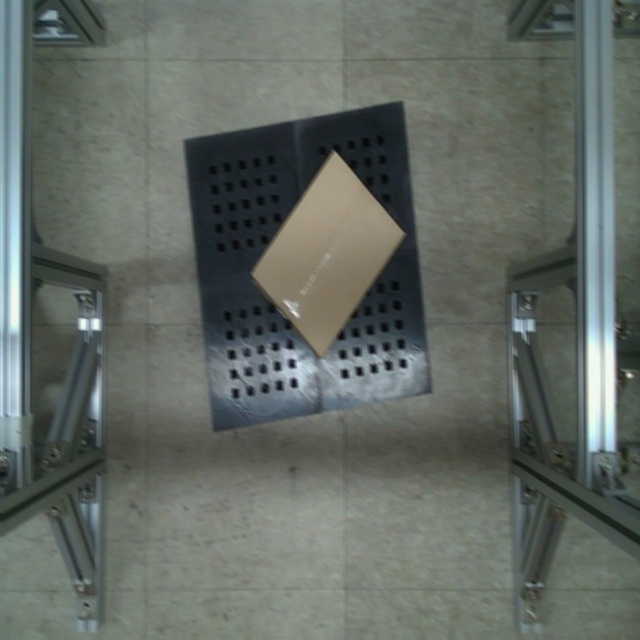box: (246, 147, 407, 363)
pallet: (169, 93, 438, 447)
